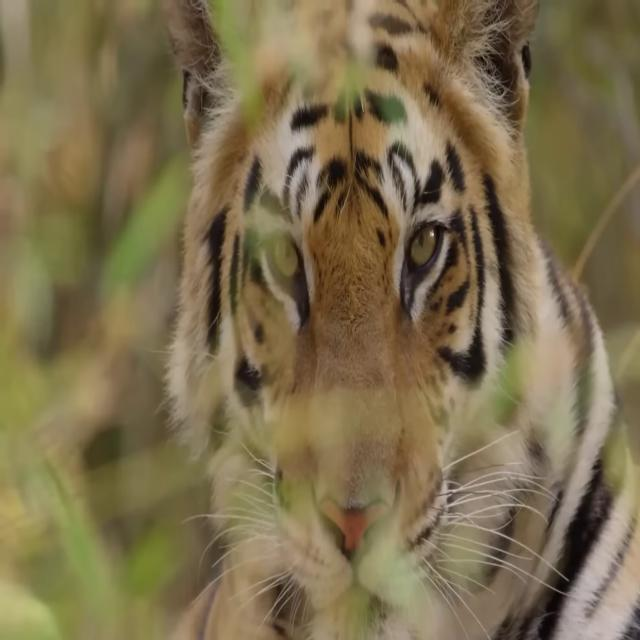tiger: (162, 0, 638, 640)
